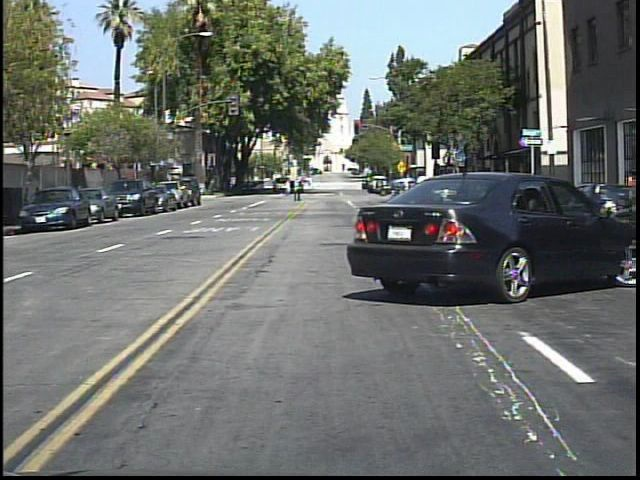person: (407, 160, 440, 243), (525, 169, 544, 224), (619, 165, 637, 218), (399, 171, 419, 208), (291, 174, 307, 206)
